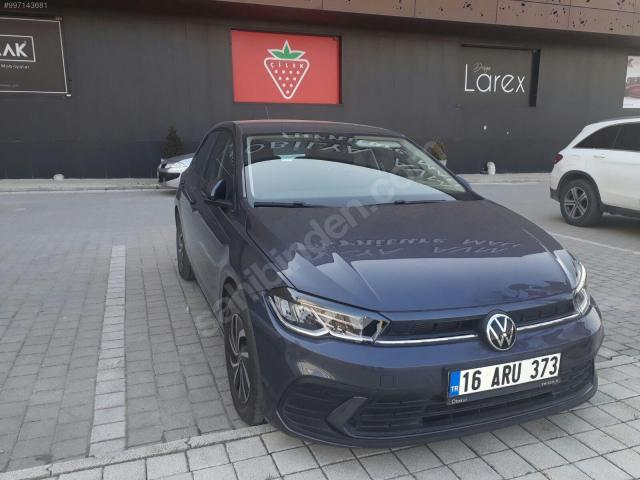plaka: (448, 353, 560, 396)
